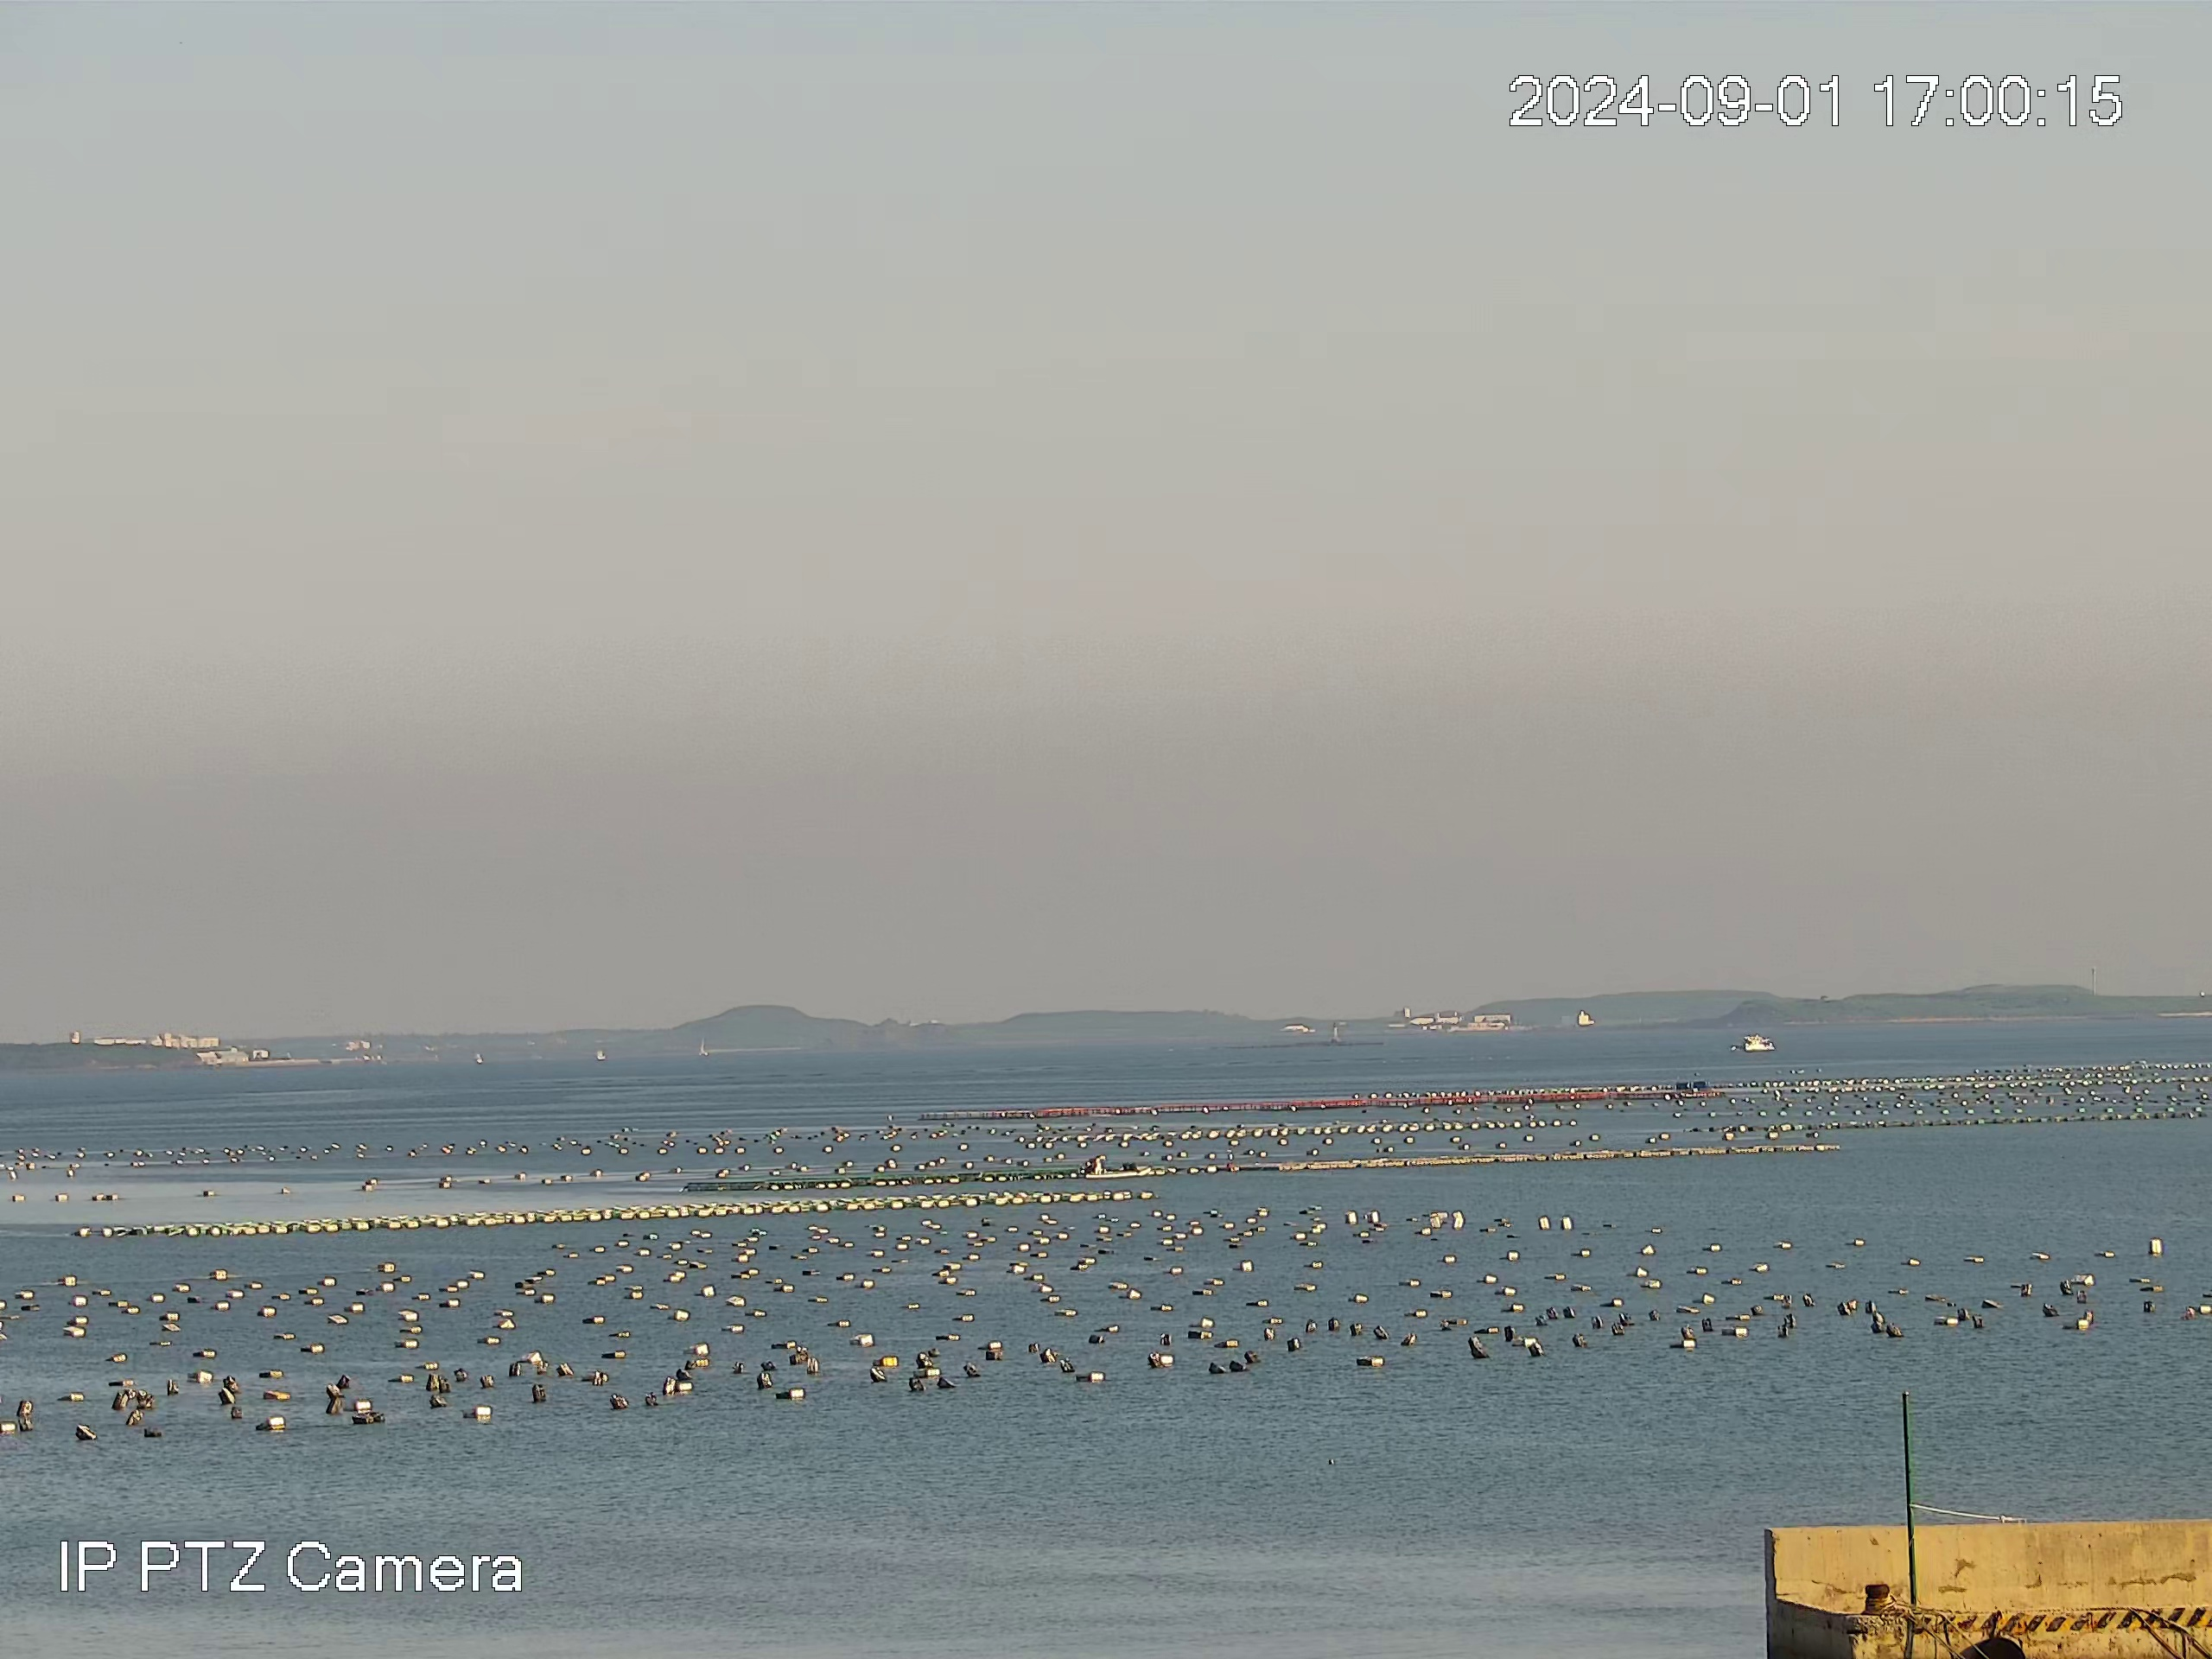boat: (1087, 1154, 1147, 1178), (1743, 1034, 1775, 1051)
